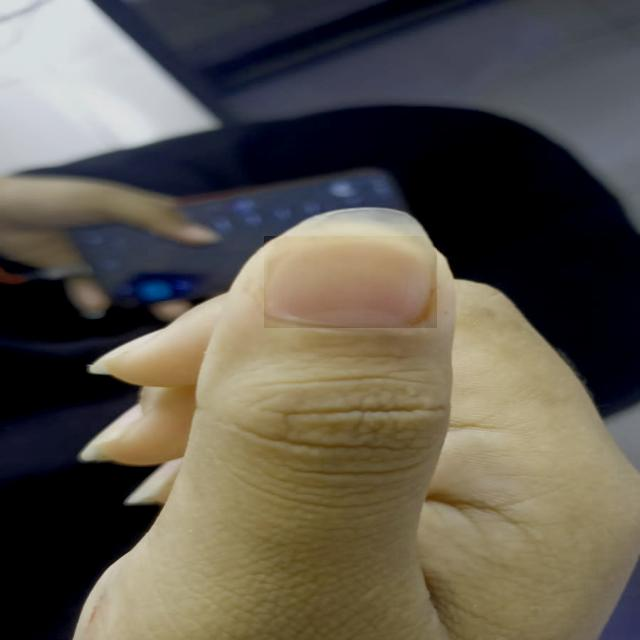sehat: (265, 236, 437, 328)
